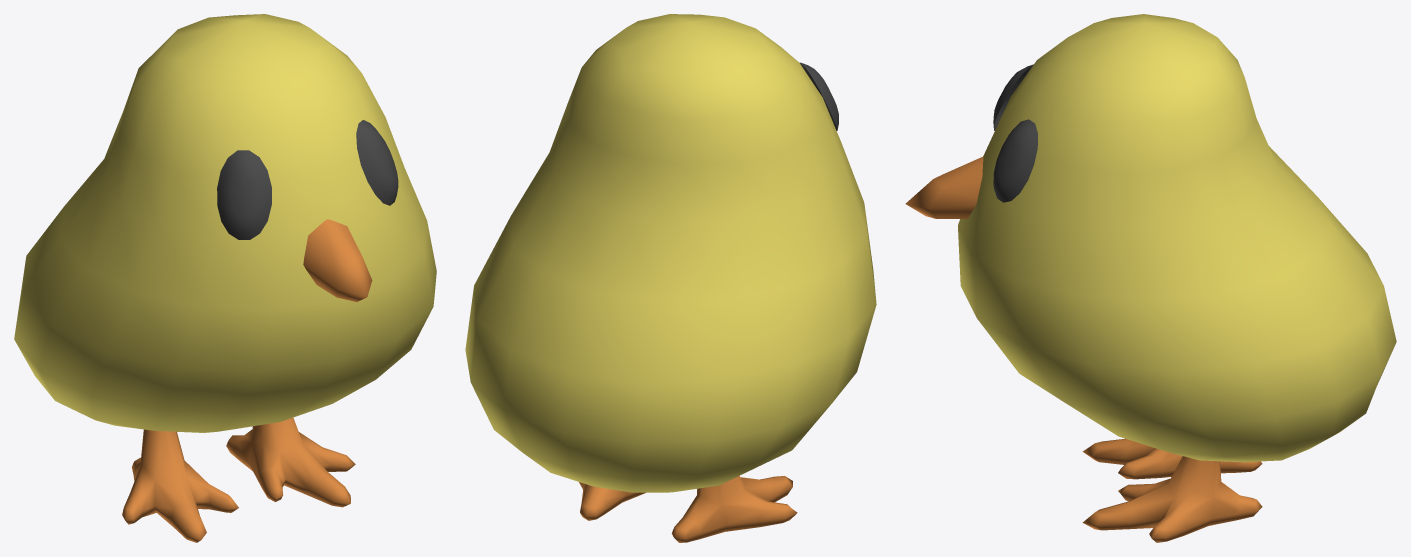
The model's file is Chicken.fbx.
3 renders of one model, left to right at view 1: azimuth 30°, elevation 25°; view 2: azimuth 150°, elevation 25°; view 3: azimuth 270°, elevation 25°, orthographic. The views are drawn at different scales.
Parts seen in each view (by area): view 1: Chicken; view 2: Chicken; view 3: Chicken.
Part boxes in pixels (left/top/right/bottom): Chicken: left=14, top=14, right=436, bottom=542; Chicken: left=465, top=14, right=876, bottom=542; Chicken: left=905, top=14, right=1396, bottom=542.
Size of the model in its own units: 8.02 by 10.4 by 9.8.
